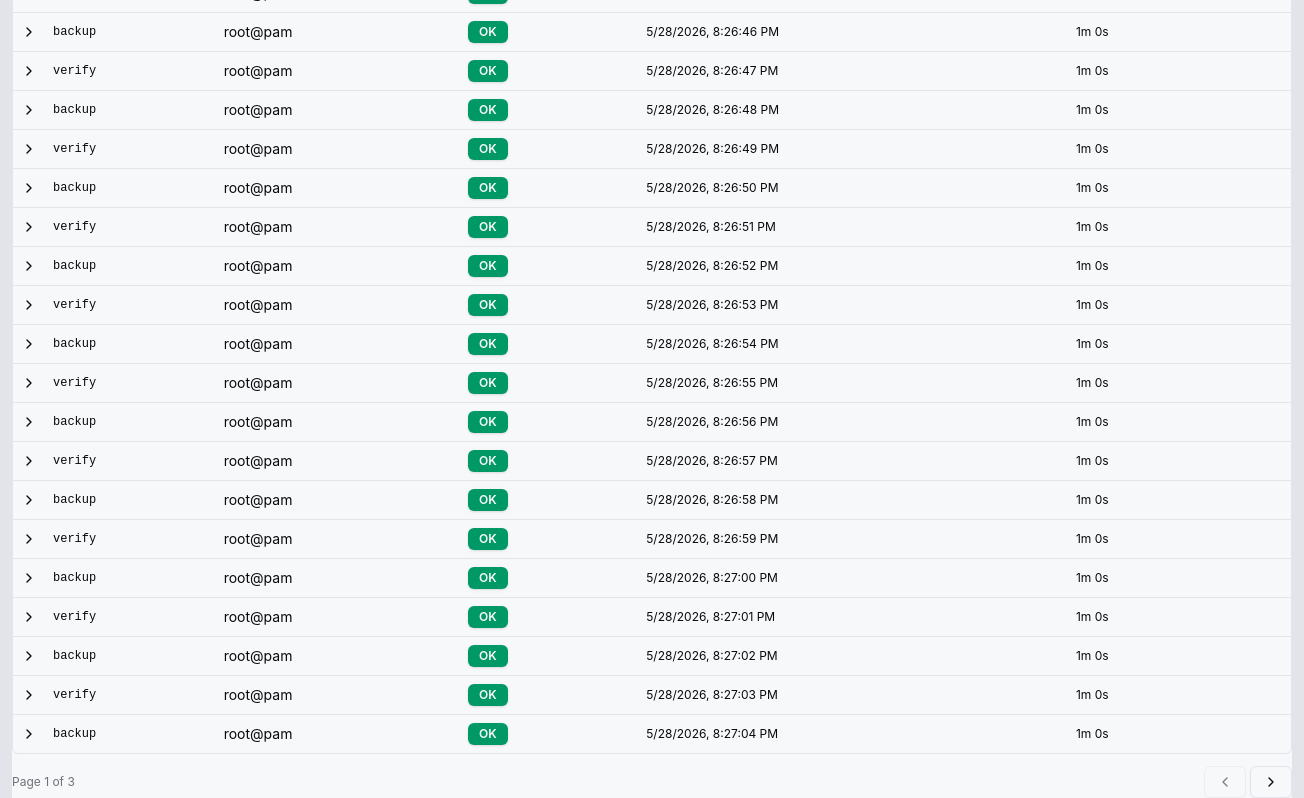
Test: PBSTaskTable paging › pages through a long task list
This screenshot has width=1304, height=798.
(page scrolled)
Click the button named "Next page": (1271, 782) [1250,766,1292,797]
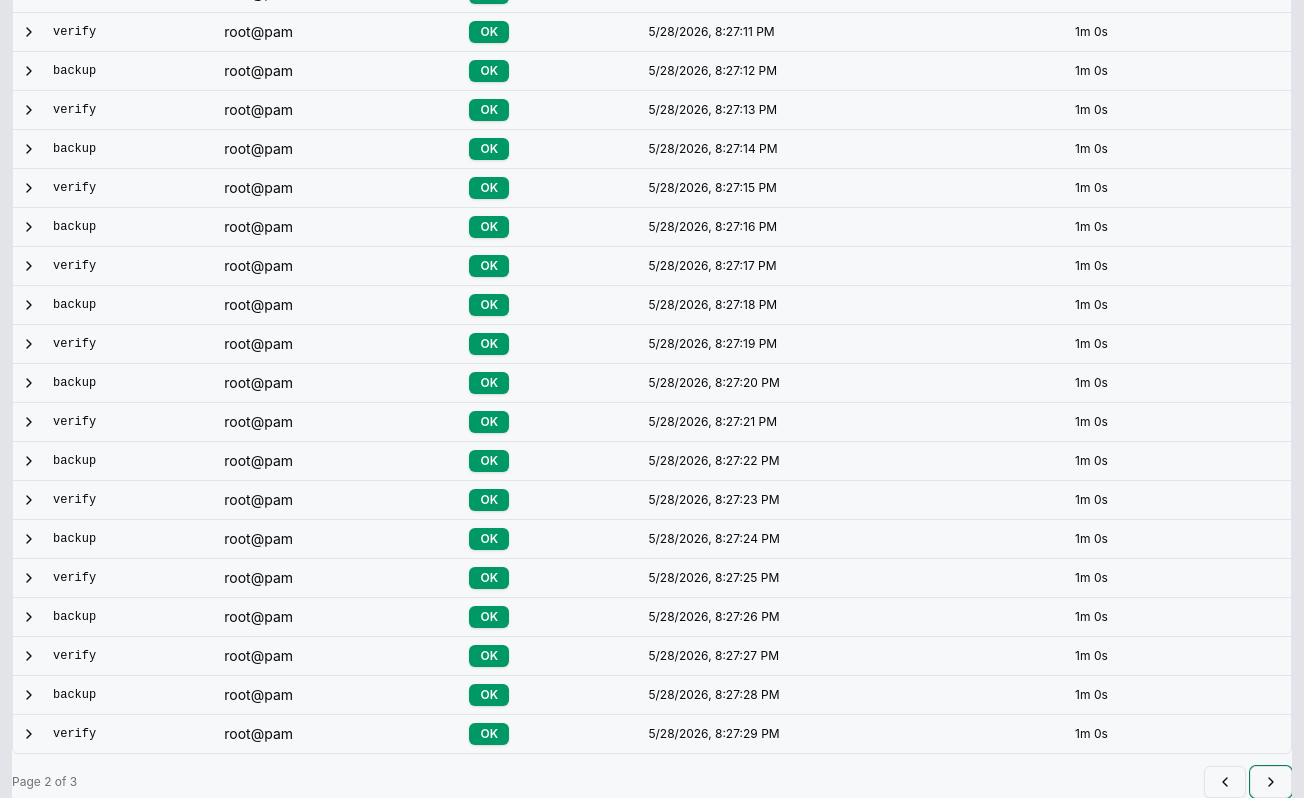
Result: the text "Page 2 of 3" is shown at [12,774,77,790]
